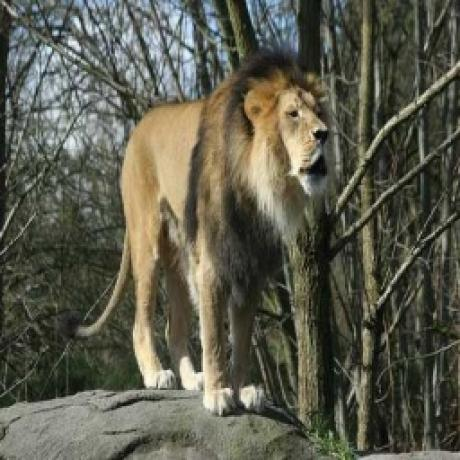Lion: (56, 61, 344, 424)
